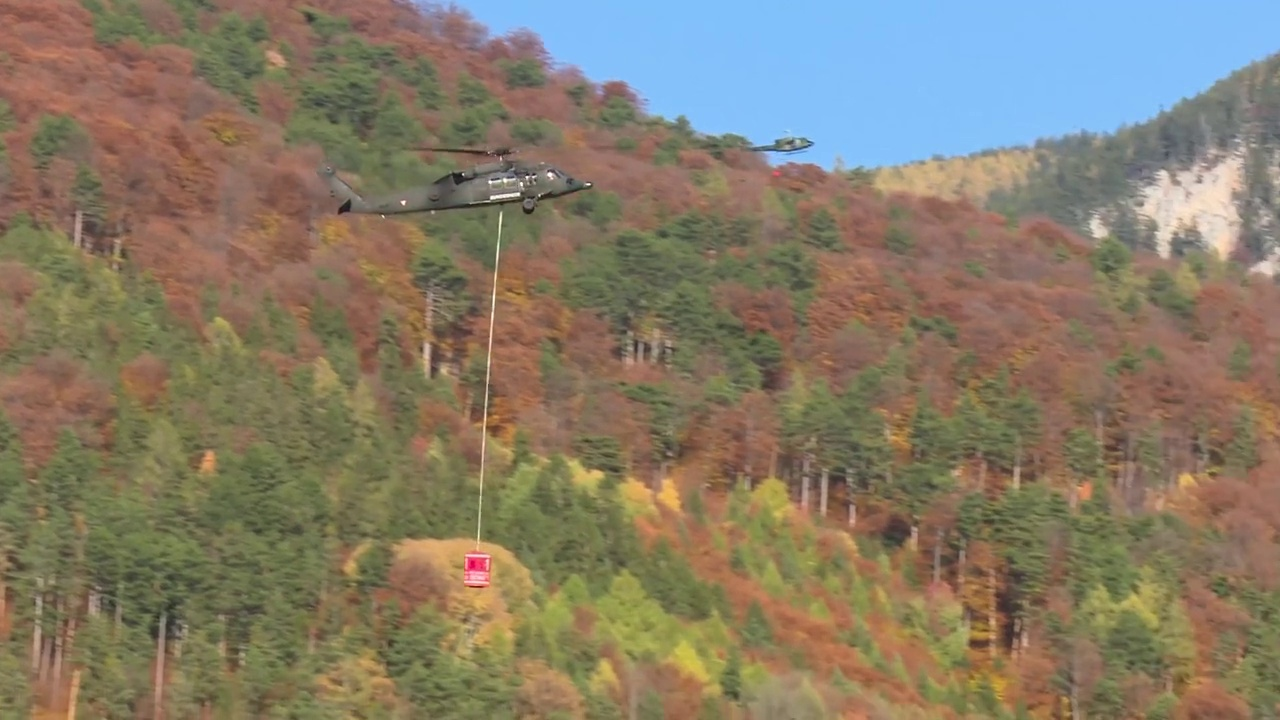heli: (317, 142, 593, 219), (742, 129, 814, 153)
